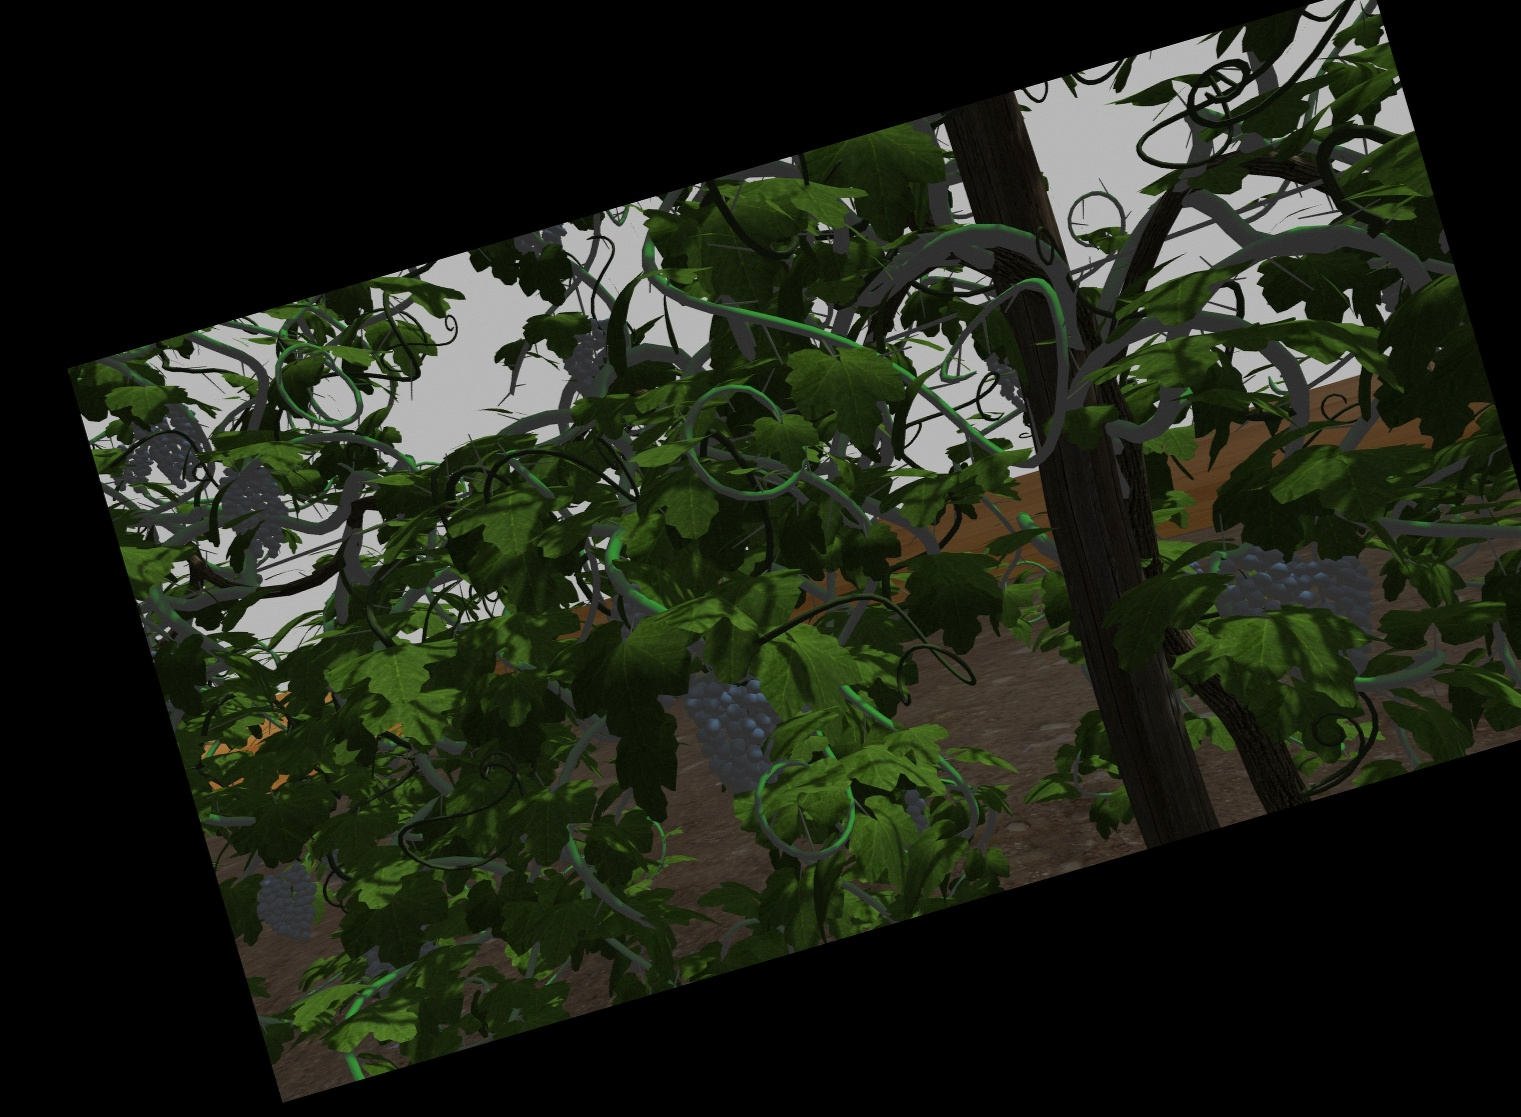grape: (696, 682, 777, 798), (1313, 555, 1380, 672), (1206, 549, 1293, 620), (222, 465, 287, 556), (255, 870, 321, 943), (146, 401, 202, 486), (561, 329, 611, 388), (115, 435, 150, 494)
